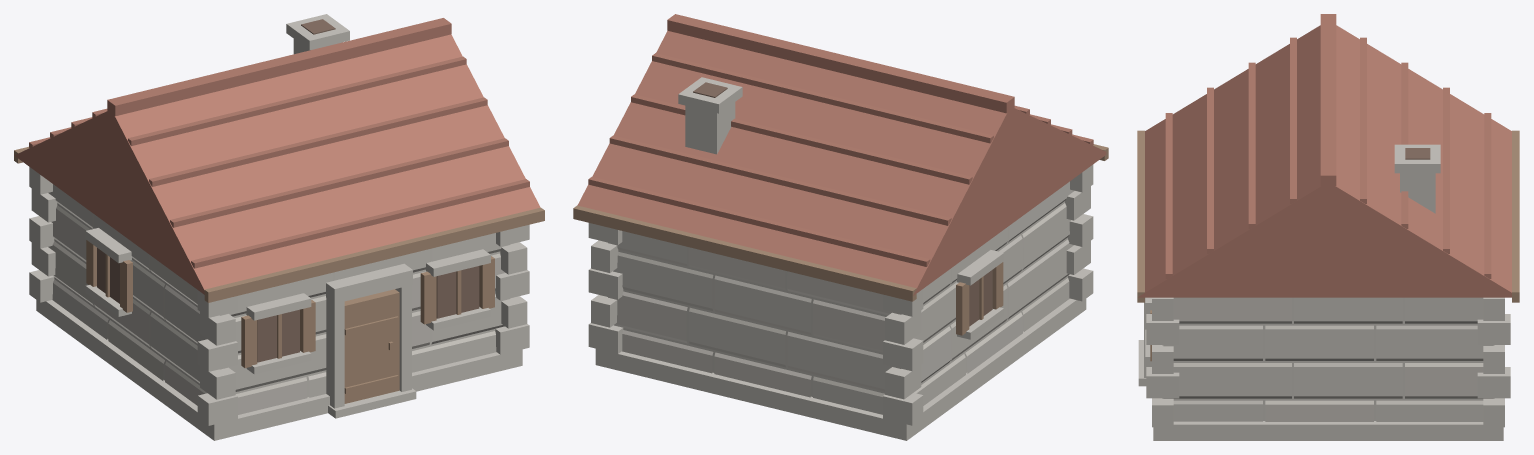
Rendered from stone-house.glb.
The picture shows the model from 3 angles, left to right: view 1: azimuth 30°, elevation 25°; view 2: azimuth 150°, elevation 25°; view 3: azimuth 270°, elevation 25°; orthographic projection. The views are drawn at different scales.
Parts seen in each view (by area): view 1: stone-house_roof, stone-house_stone, stone-house_wood, stone-house_door, stone-house_window; view 2: stone-house_roof, stone-house_stone, stone-house_wood, stone-house_window; view 3: stone-house_roof, stone-house_stone, stone-house_wood.
Part boxes in pixels (left/top/right/bottom): stone-house_roof: left=14, top=18, right=540, bottom=294; stone-house_stone: left=29, top=14, right=529, bottom=440; stone-house_wood: left=14, top=146, right=544, bottom=368; stone-house_door: left=344, top=289, right=399, bottom=403; stone-house_window: left=97, top=19, right=479, bottom=362; stone-house_roof: left=577, top=14, right=1106, bottom=295; stone-house_stone: left=588, top=77, right=1093, bottom=440; stone-house_wood: left=573, top=144, right=1108, bottom=335; stone-house_window: left=693, top=82, right=992, bottom=326; stone-house_roof: left=1137, top=14, right=1511, bottom=297; stone-house_stone: left=1138, top=144, right=1510, bottom=440; stone-house_wood: left=1137, top=130, right=1519, bottom=361.
Size of the model in its own units: 2 by 1.57 by 2.
